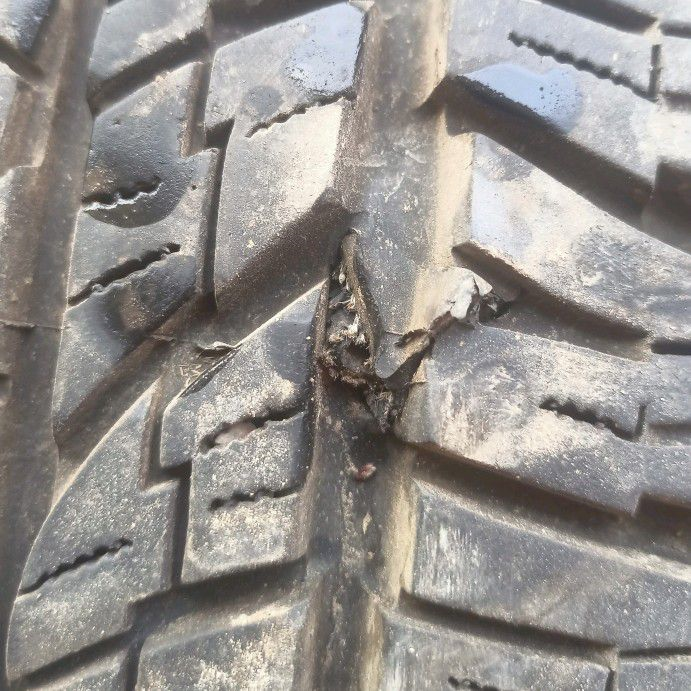tr: (318, 199, 518, 458)
